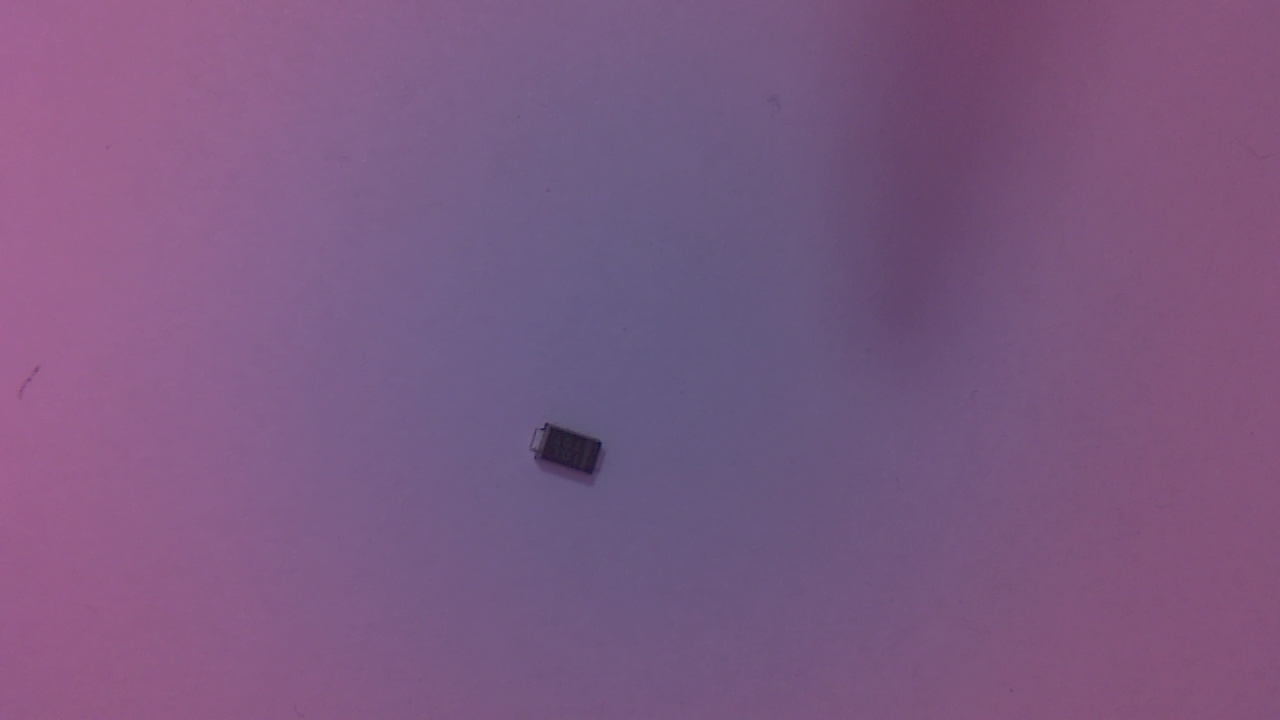Diode: (534, 424, 613, 487)
